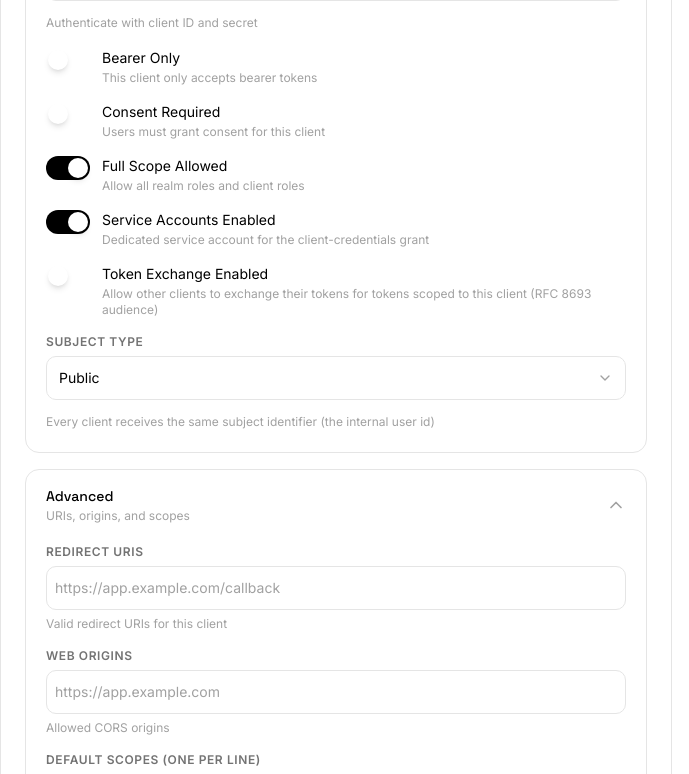
Test: ClientEditPage › lists the subject type options from serverinfo with descriptions
(page scrolled)
Click the button named "Subject Type" at (79, 378), box [46, 356, 626, 400]
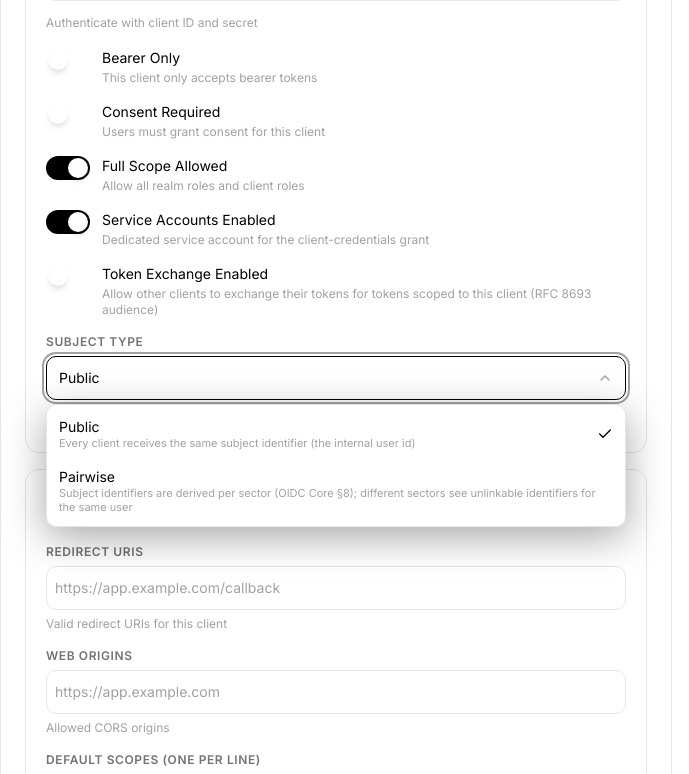
Check: the text "Subject identifiers are derived per sector (OIDC Core §8); different sectors see unlinkable identifiers for the same use" is shown, box [59, 486, 596, 514]
Check: the option with aria-label "Every client receives the same subject identifier (the inter" is shown, box [47, 409, 625, 459]
